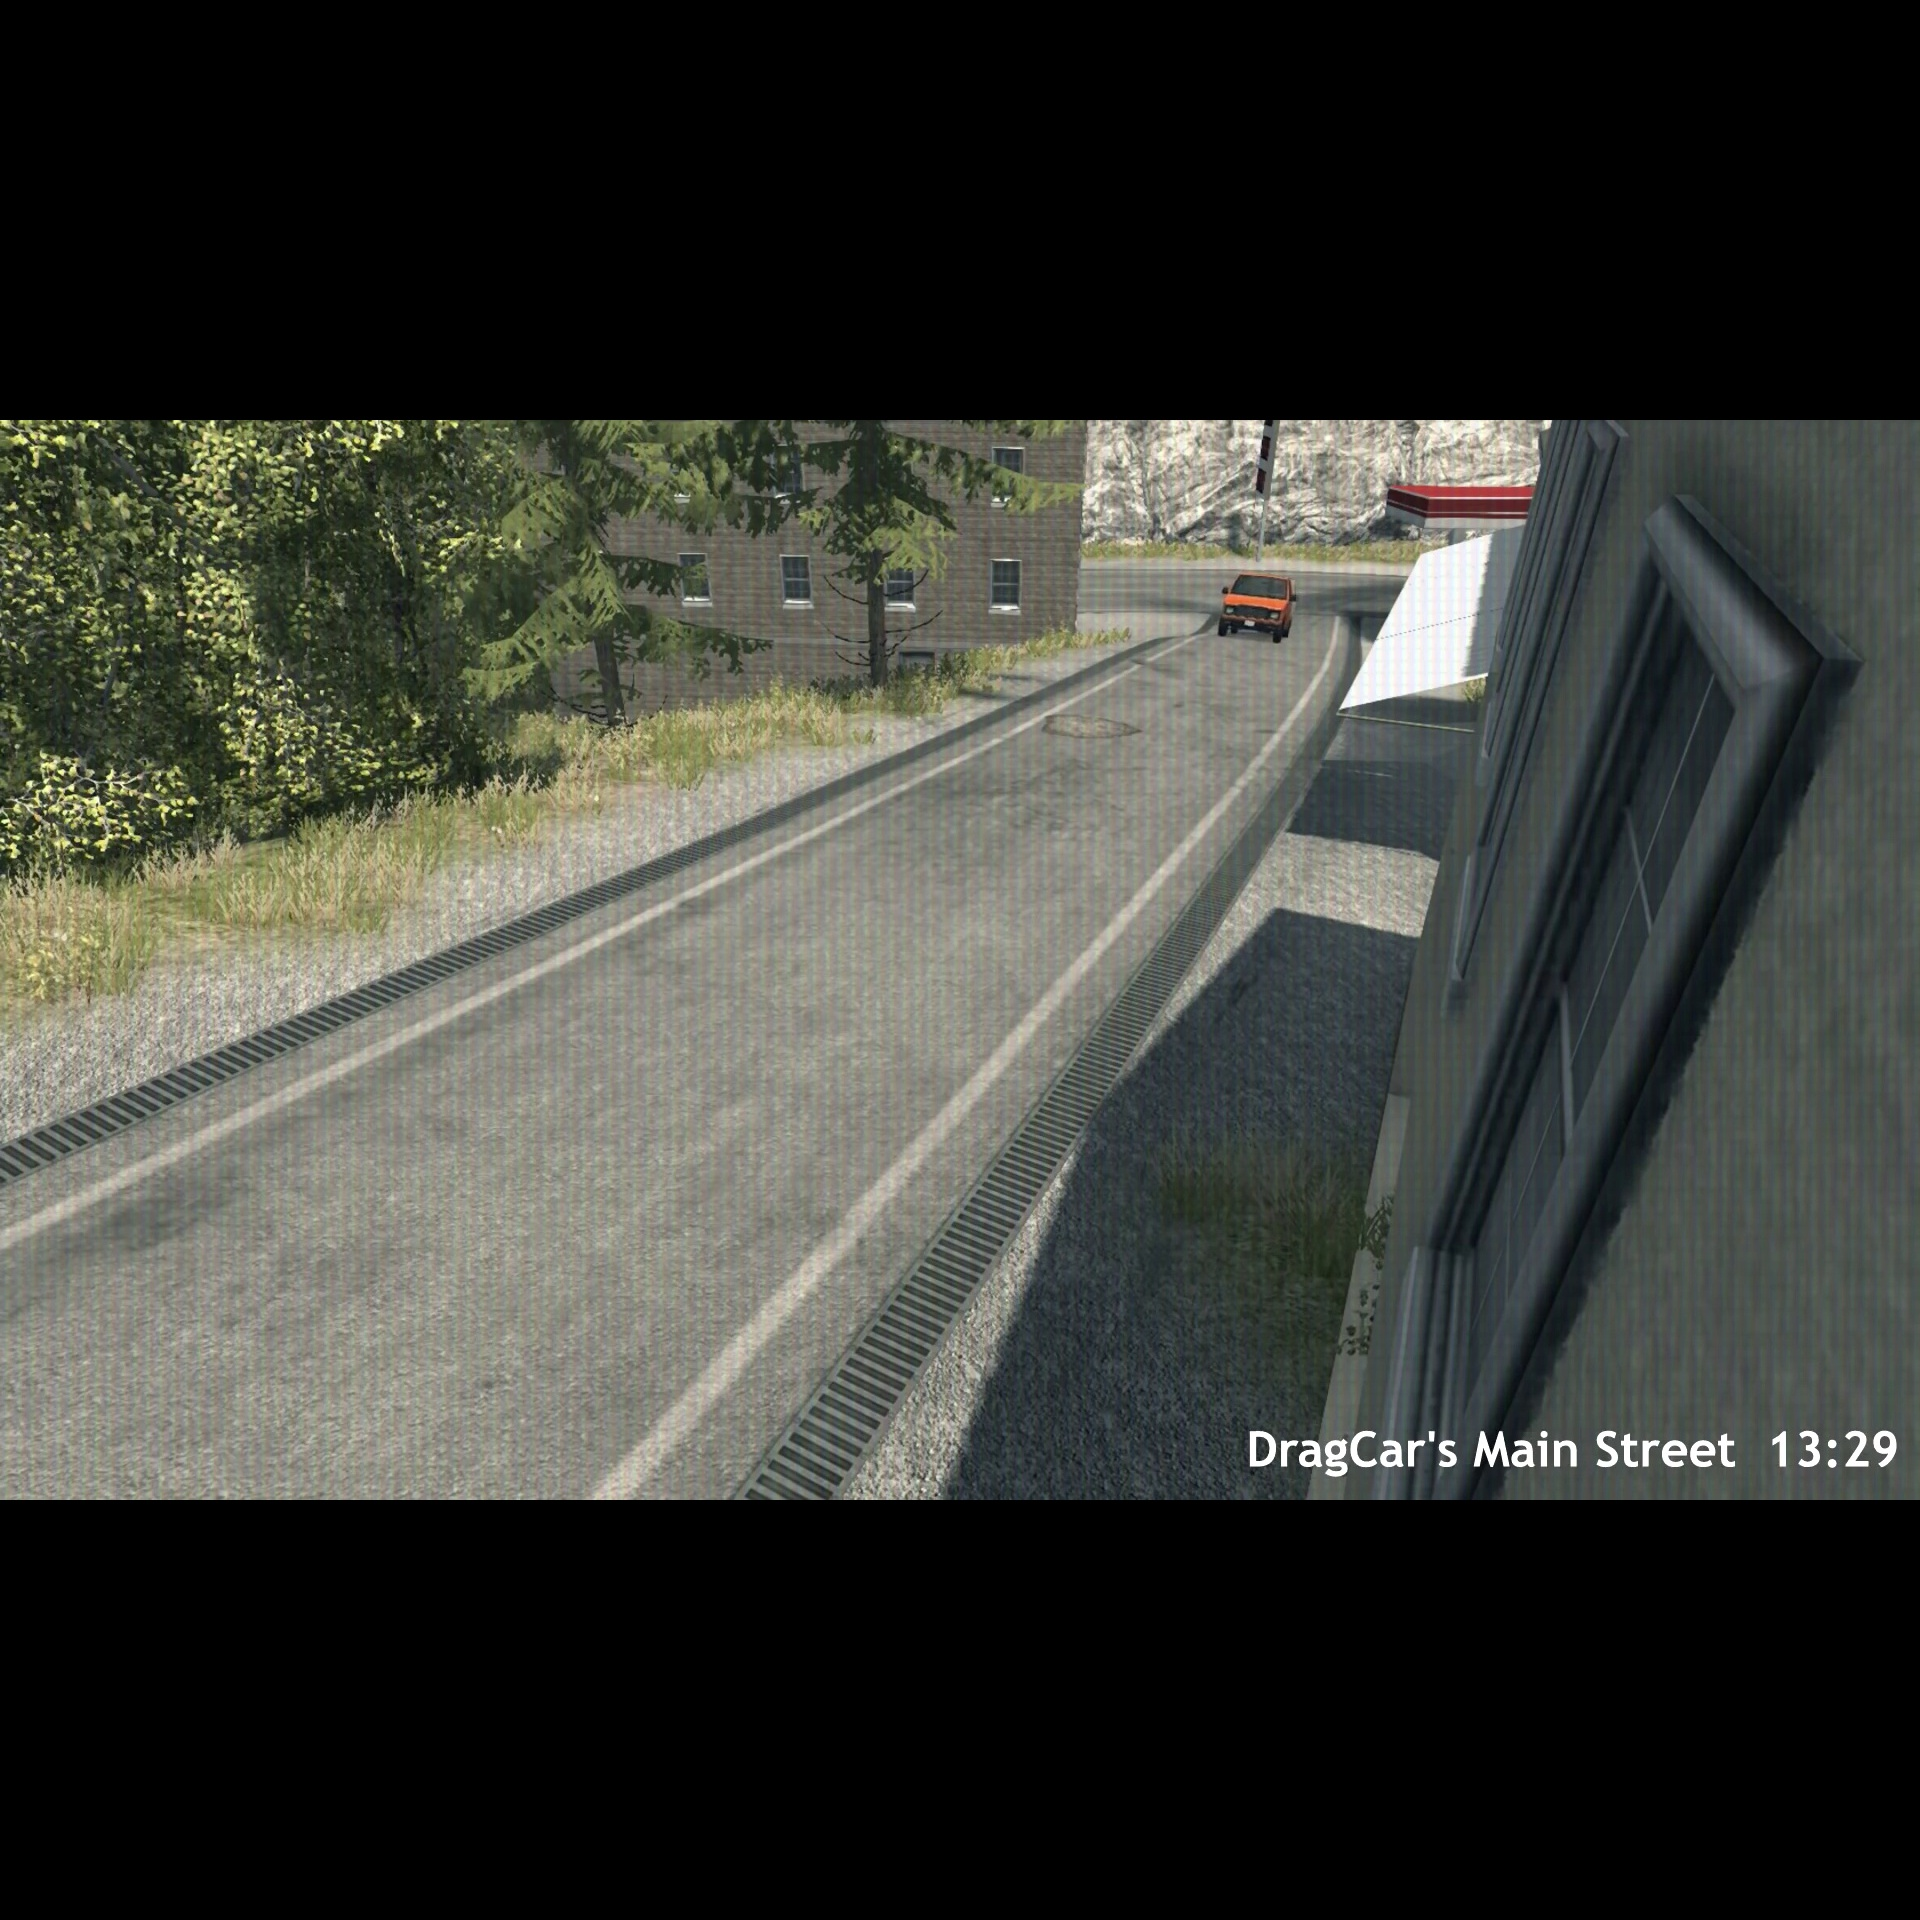vehicle: (1206, 563, 1303, 642)
